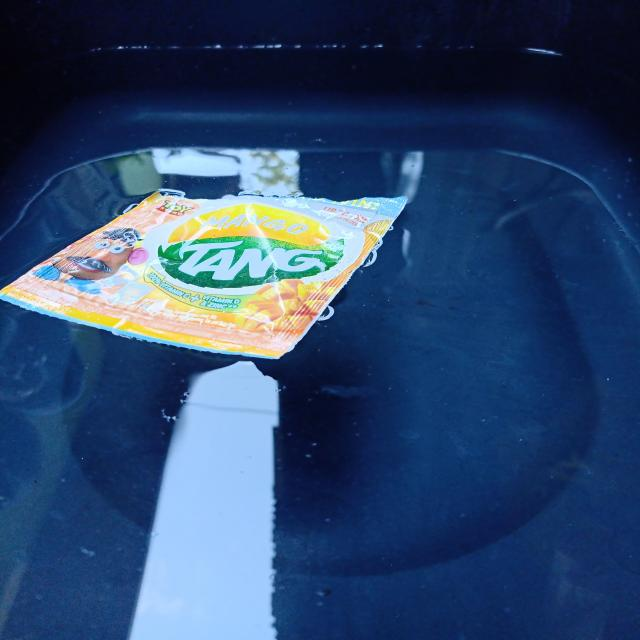Plastic Wrapper: (0, 178, 410, 360)
